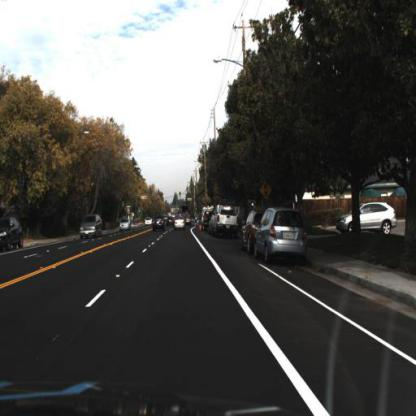car: (255, 205, 311, 265), (338, 201, 398, 238), (237, 206, 266, 257), (210, 200, 241, 238), (1, 214, 26, 256), (77, 212, 106, 243), (149, 215, 167, 235), (118, 215, 133, 235), (174, 217, 187, 232)
